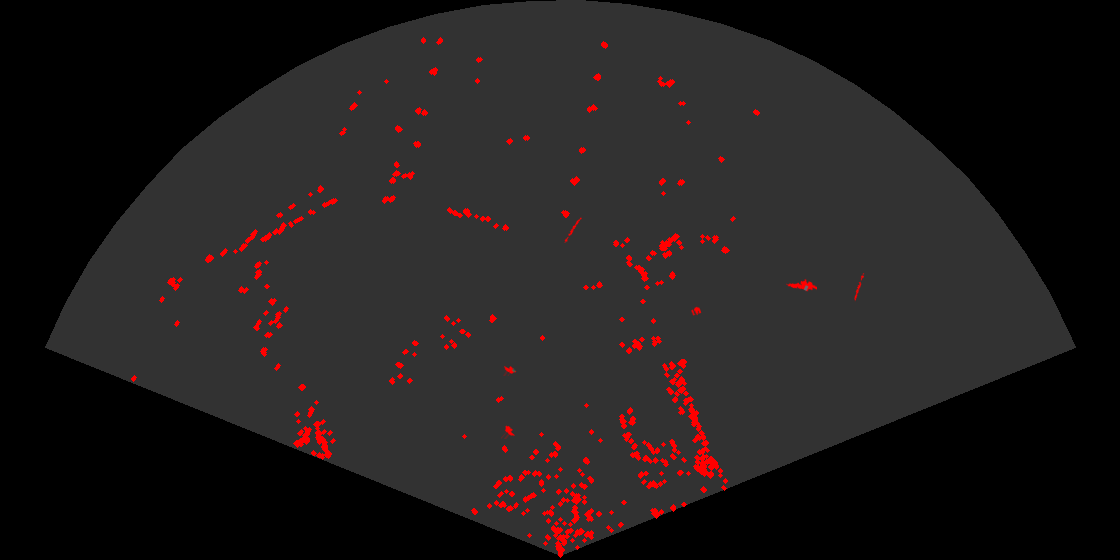AUV: (501, 424, 516, 439), (502, 365, 518, 376)
ball: (690, 305, 703, 317)
chain: (563, 215, 582, 243), (853, 273, 865, 302)
frogman: (786, 277, 817, 293)
